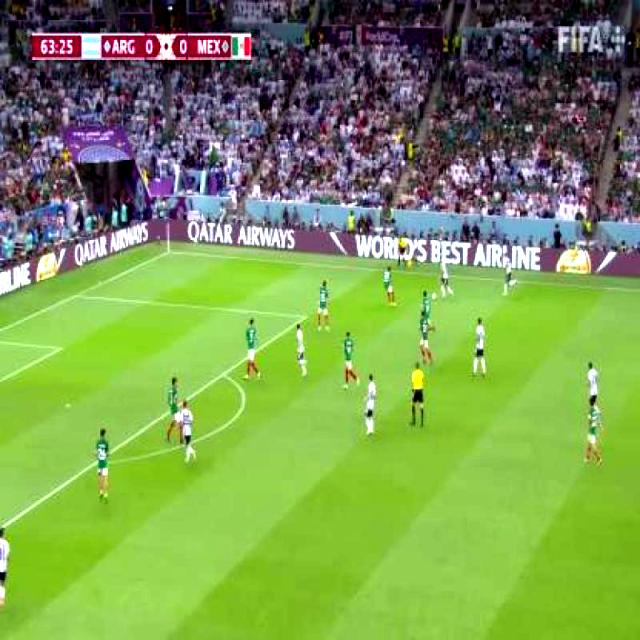bigarea_top_inner: (300, 310, 310, 325)
bigarea_top_outter: (72, 290, 82, 302)
corner: (166, 248, 179, 255)
smallarea_top_inner: (56, 343, 66, 355)
top_arc_area_intersection: (218, 368, 230, 382)
